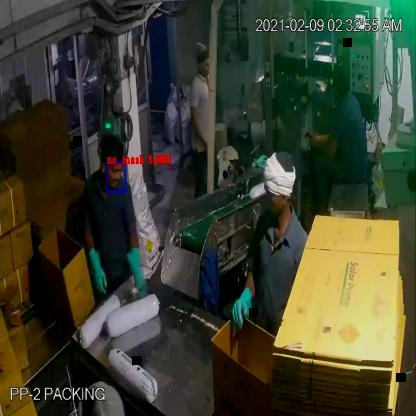glove: (217, 277, 263, 337), (80, 242, 116, 300), (126, 235, 152, 308)
no_glove: (301, 121, 342, 163), (186, 96, 210, 151)
